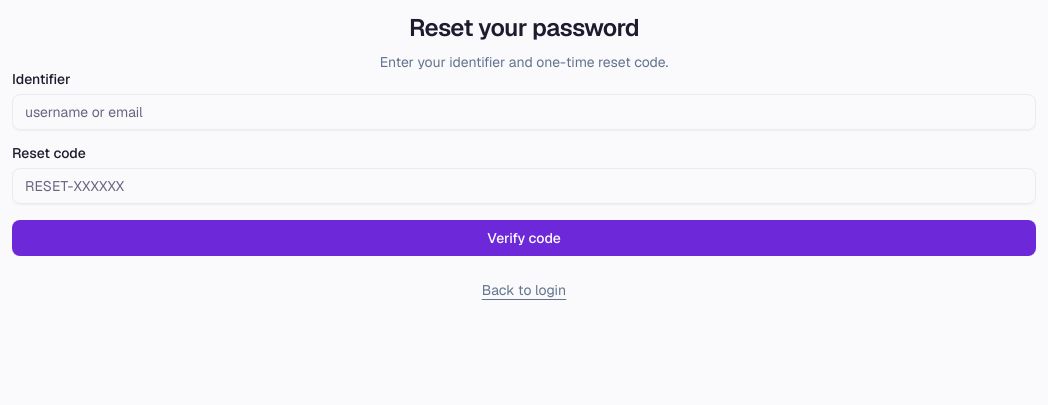
Test: Forgot password page — two-step flow › shows error when reset code is invalid
In the field labelled "Identifier": [524, 112] box [12,94,1036,130], type "mblake"
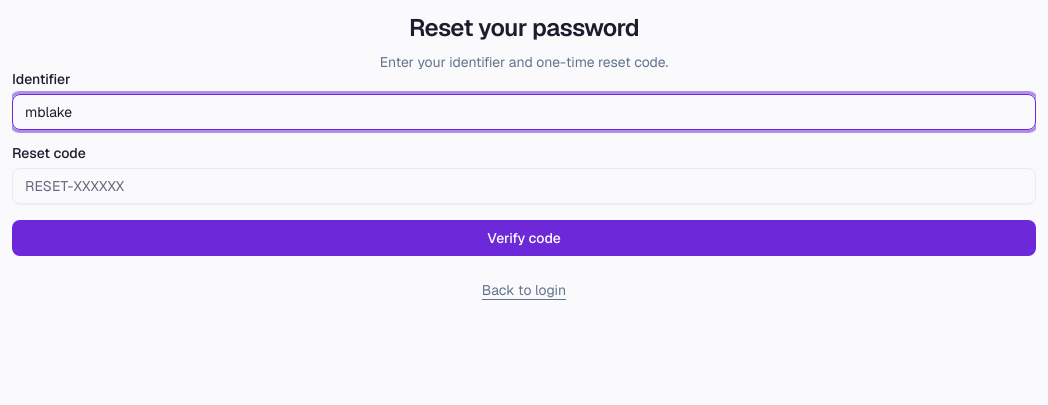
In the field labelled "Reset code": [524, 186] box [12,168,1036,204], type "BAD-CODE"
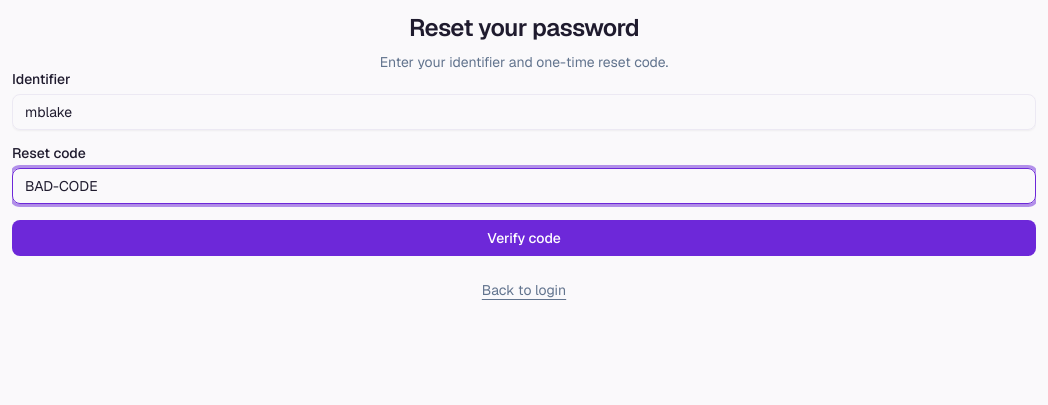
Click the button "Verify code": [524, 238] box [12,220,1036,256]
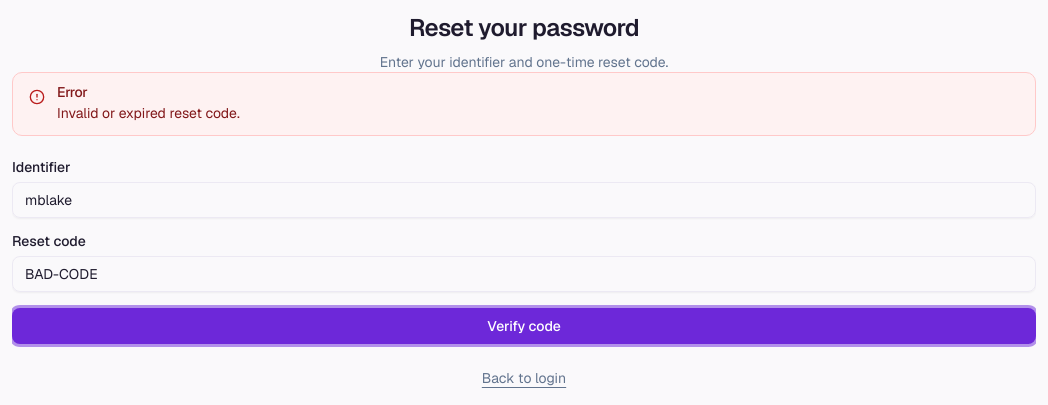
Check: the text "Invalid or expired reset code." is shown, box [57,104,240,122]
